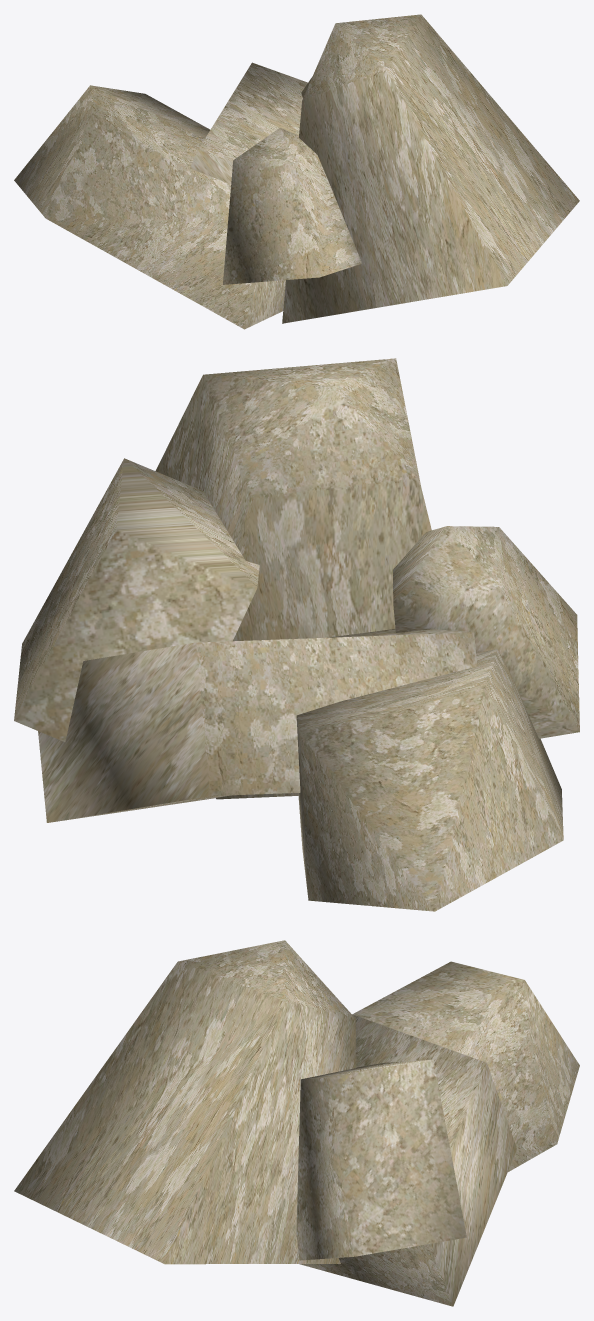
File: rock_formation_a3_l4.fbx
The picture shows the model from 3 angles, top to bottom: view 1: azimuth 30°, elevation 25°; view 2: azimuth 150°, elevation 25°; view 3: azimuth 270°, elevation 25°; orthographic projection. The views are drawn at different scales.
Parts seen in each view (by area): view 1: mesh_node; view 2: mesh_node; view 3: mesh_node.
Part boxes in pixels (bbox=[...]): mesh_node: bbox=[14, 14, 579, 329]; mesh_node: bbox=[14, 358, 579, 911]; mesh_node: bbox=[14, 940, 579, 1306].
Size of the model in its own units: 9.95 by 6.62 by 10.22.
